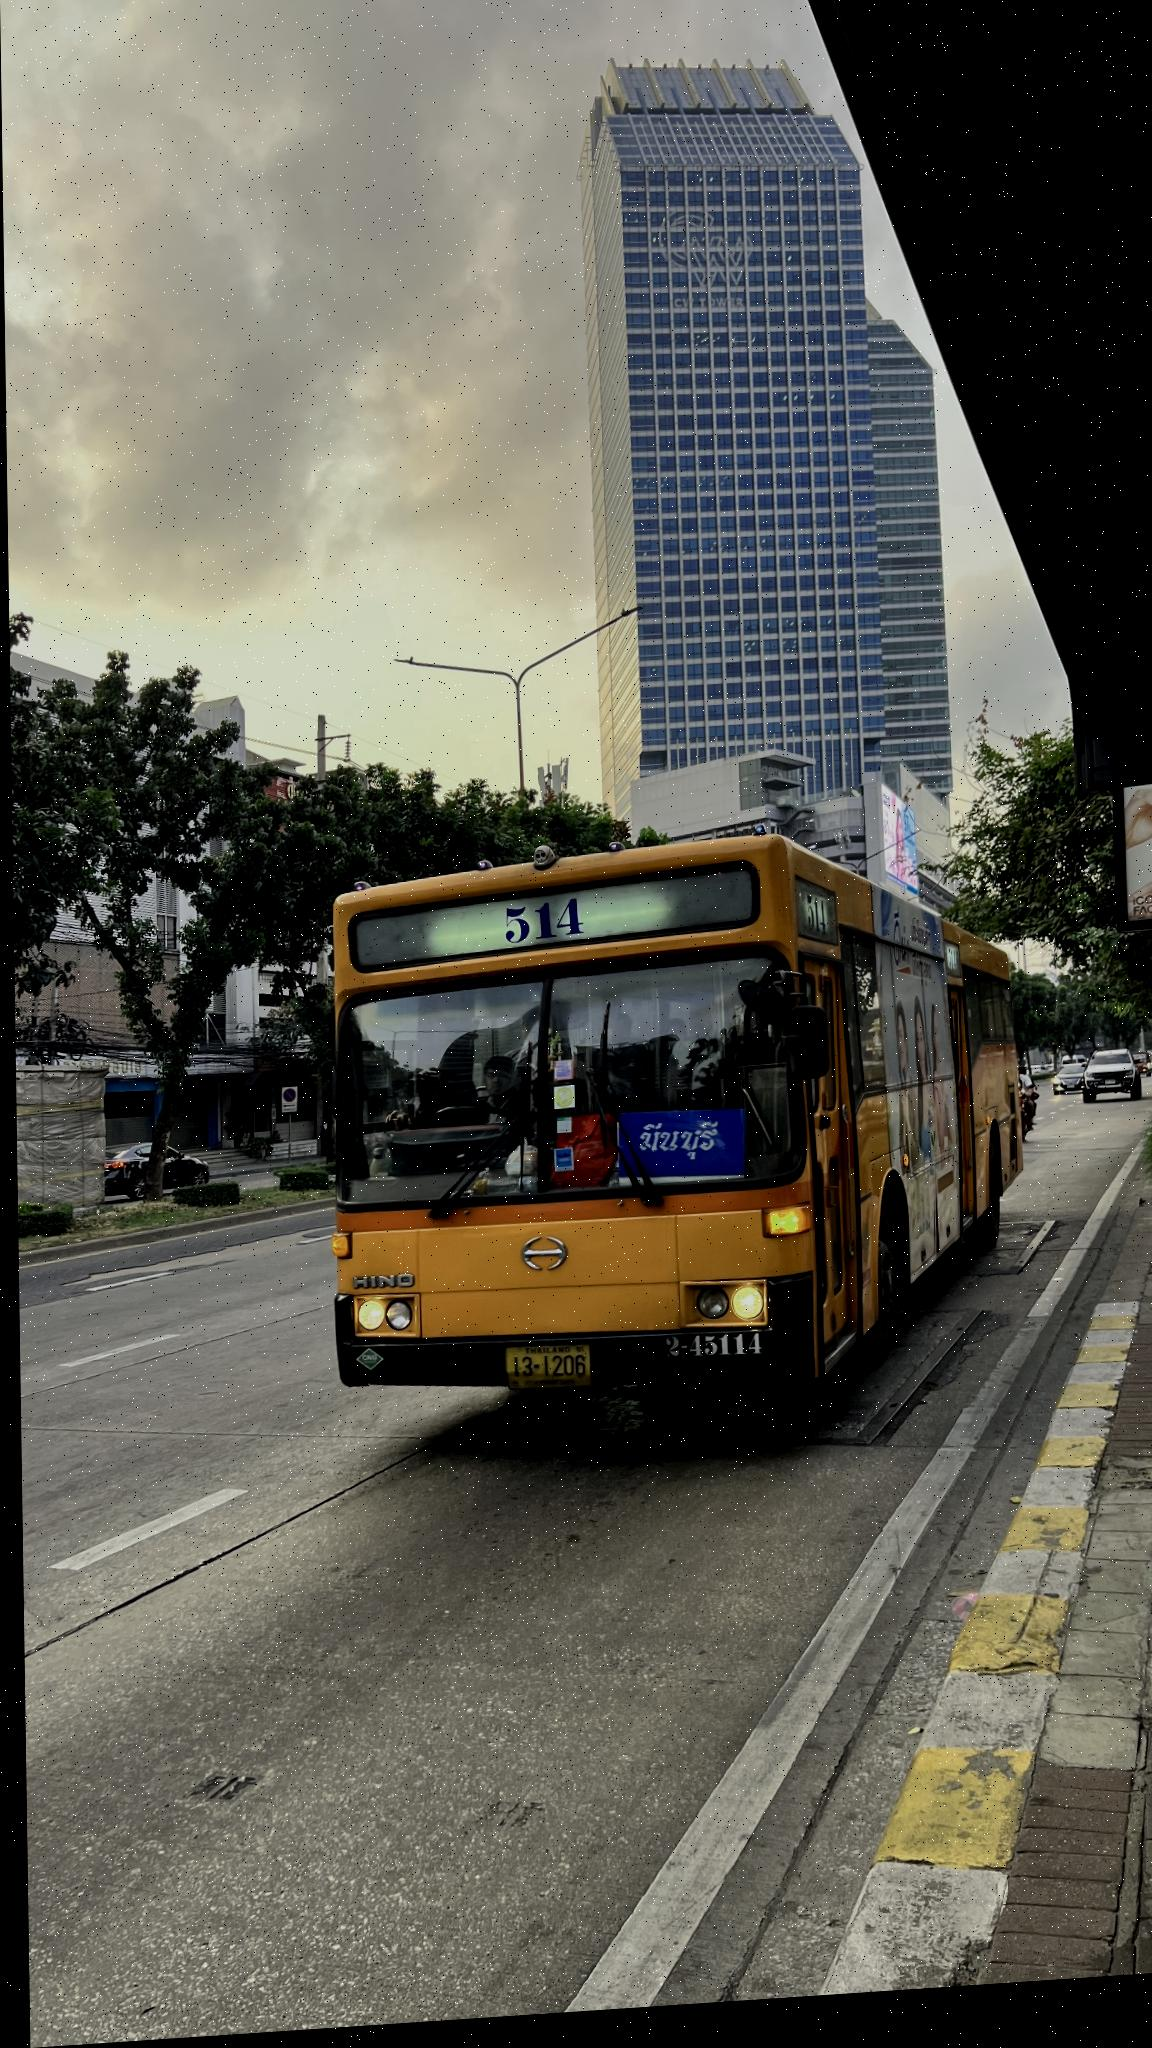BMTA-bus: (308, 820, 1027, 1438)
Bus Line Number: (492, 900, 588, 954), (796, 893, 831, 955)
Bus Side Number: (650, 1333, 761, 1376)
Destination Sign: (610, 1114, 744, 1193)
